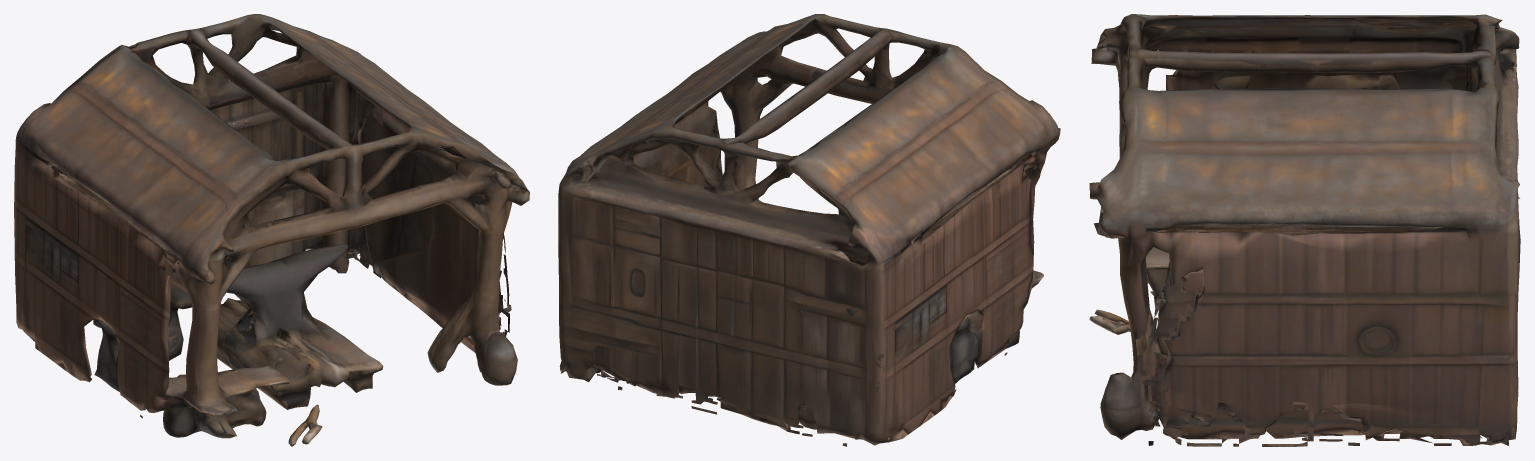
Rendered from Meshy_AI_Viking_RTS_Building_B_0902005958_texture.fbx.
The picture shows the model from 3 angles, left to right: view 1: azimuth 30°, elevation 25°; view 2: azimuth 150°, elevation 25°; view 3: azimuth 270°, elevation 25°; orthographic projection. The views are drawn at different scales.
Visible parts, largest first — view 1: Mesh1.0; view 2: Mesh1.0; view 3: Mesh1.0.
Boxes of the visible parts, x1,y1,x2,y2 form: Mesh1.0: (14, 14, 529, 446); Mesh1.0: (558, 14, 1060, 446); Mesh1.0: (1089, 14, 1520, 446).
Size of the model in its own units: 200 by 156 by 200.
Materials: 1 (1 with a texture image).
